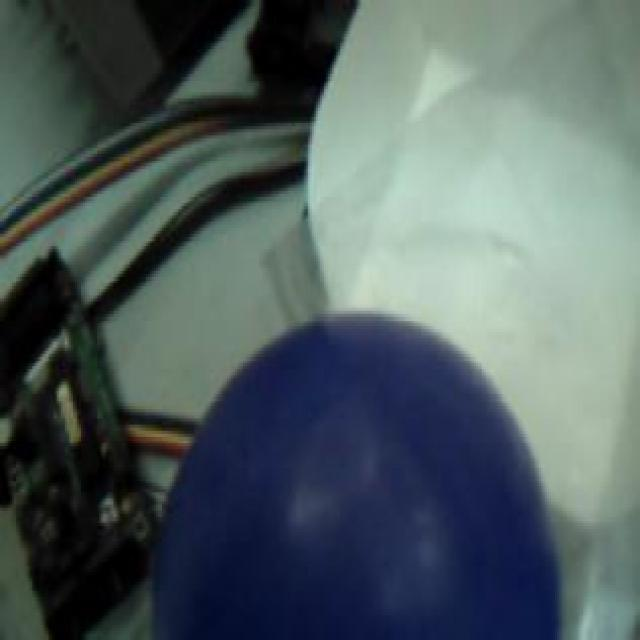BallPurple: (154, 314, 566, 640)
